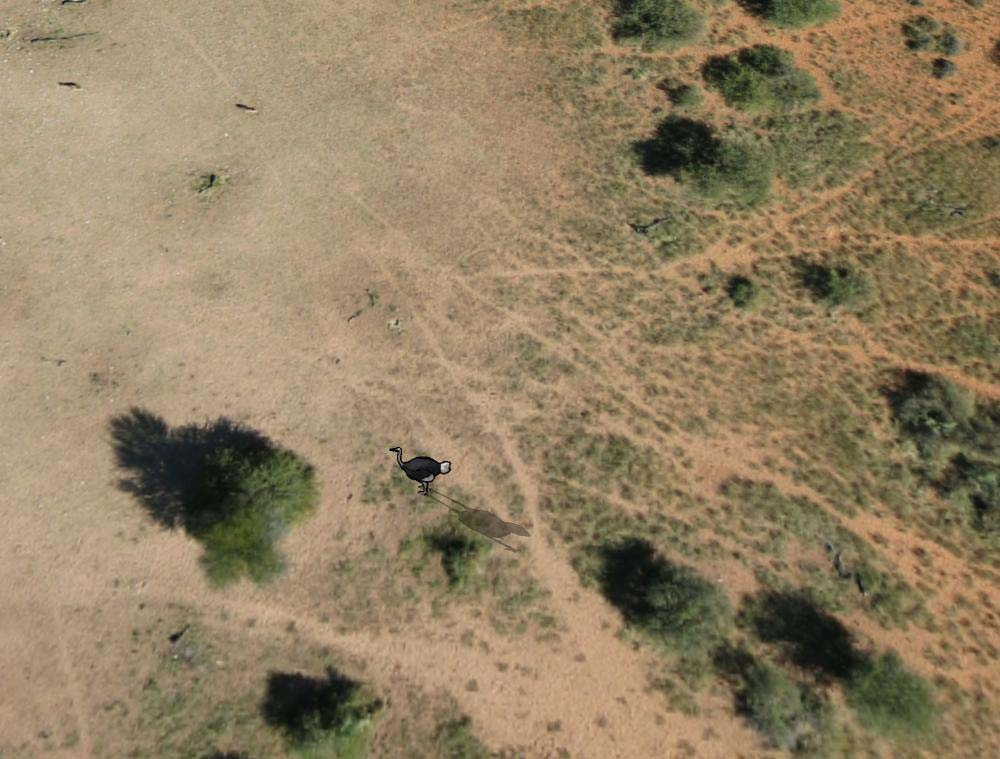springbok: (387, 443, 452, 493)
